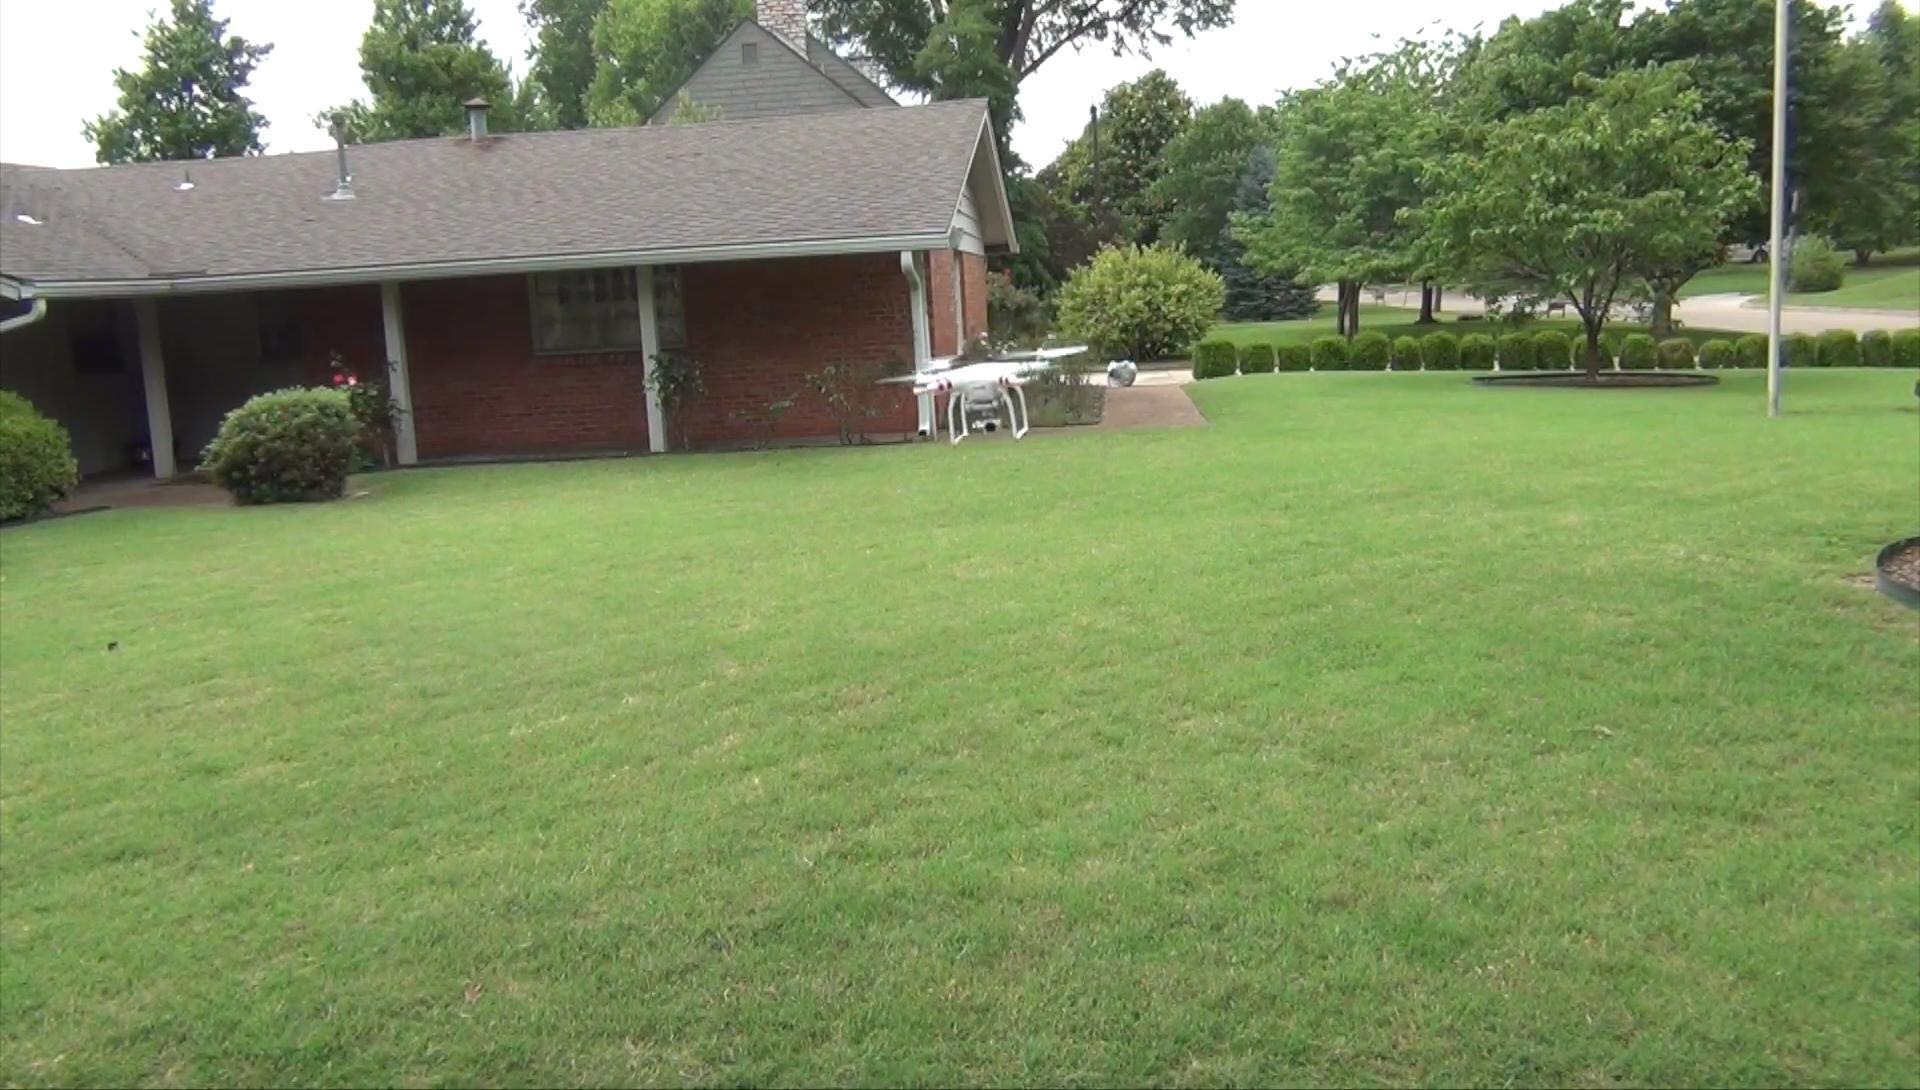drone: (891, 340, 1084, 442)
